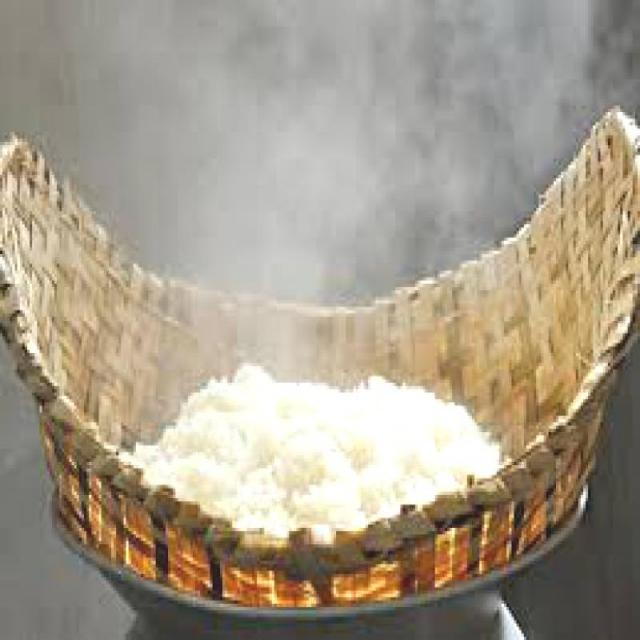rice: (129, 361, 502, 530)
